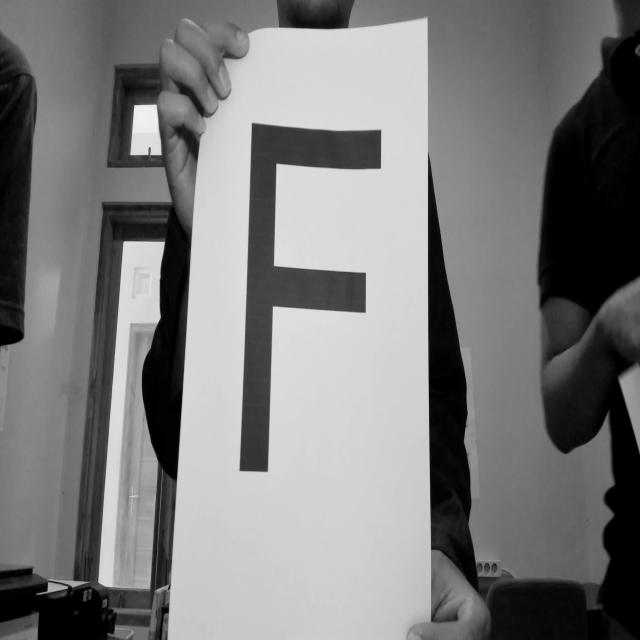f: (231, 104, 394, 495)
